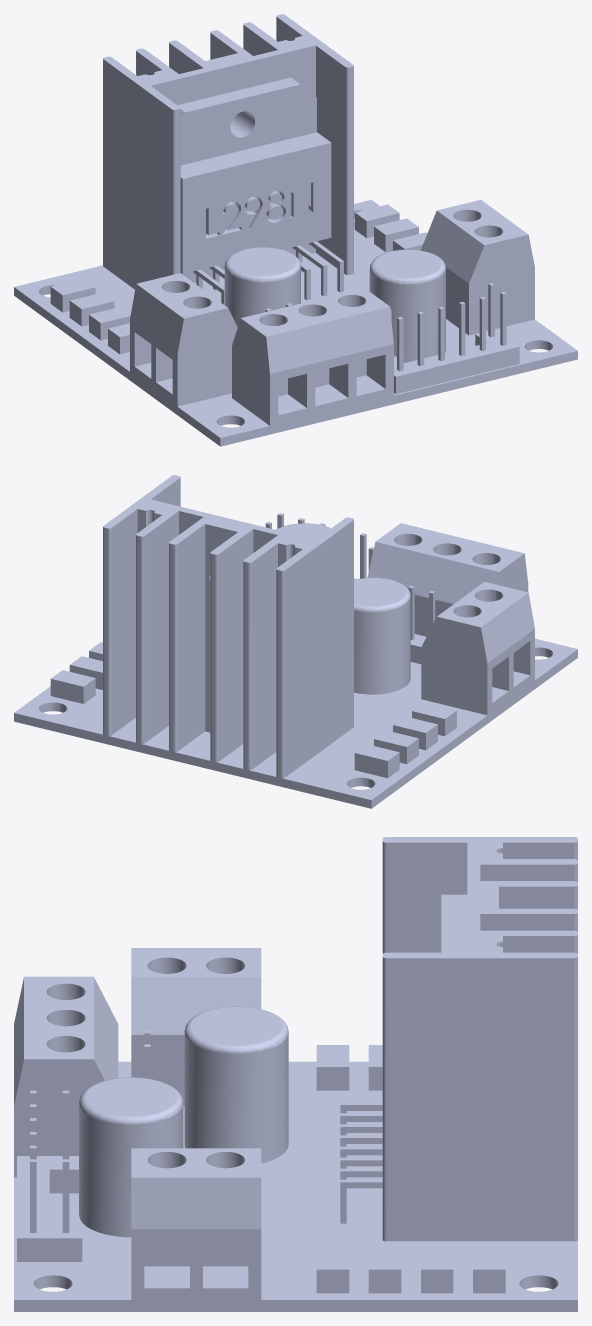
The model's file is User Library-L298N-1.glb.
3 renders of one model, top to bottom at view 1: azimuth 30°, elevation 25°; view 2: azimuth 150°, elevation 25°; view 3: azimuth 270°, elevation 25°, orthographic. The views are drawn at different scales.
Parts seen in each view (by area): view 1: AA7B2E98-B53F-4B9E-A5E4-B0EF237C7FC4; view 2: AA7B2E98-B53F-4B9E-A5E4-B0EF237C7FC4; view 3: AA7B2E98-B53F-4B9E-A5E4-B0EF237C7FC4.
Boxes of the visible parts, <box> form: AA7B2E98-B53F-4B9E-A5E4-B0EF237C7FC4: <box>14,14,577,446</box>; AA7B2E98-B53F-4B9E-A5E4-B0EF237C7FC4: <box>14,475,577,808</box>; AA7B2E98-B53F-4B9E-A5E4-B0EF237C7FC4: <box>14,837,577,1311</box>.
Bounding box in the file's own units: 43.3 × 25 × 43.3.
